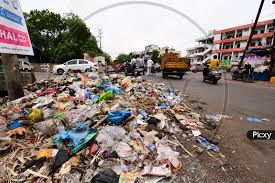garbage: (25, 79, 183, 183), (1, 101, 187, 183)
